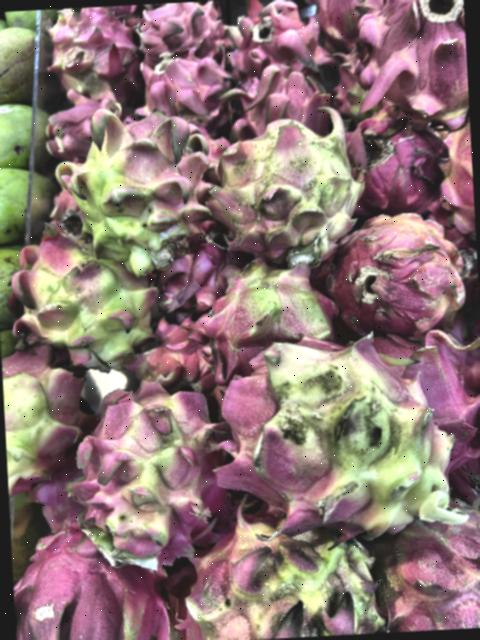buah-naga-belum-matang: (213, 316, 475, 551), (185, 494, 373, 640), (84, 374, 220, 560), (70, 97, 211, 270), (196, 114, 364, 255), (15, 227, 156, 356), (337, 212, 466, 325), (204, 251, 334, 356), (367, 514, 480, 633), (0, 332, 90, 474)
buah-naga-matang: (14, 503, 195, 640), (371, 325, 480, 472), (351, 0, 470, 131), (342, 105, 450, 218), (50, 9, 150, 100), (134, 49, 236, 134), (221, 0, 325, 80), (137, 313, 212, 397), (138, 0, 234, 65), (229, 64, 321, 124), (39, 104, 108, 152), (312, 0, 378, 41)
